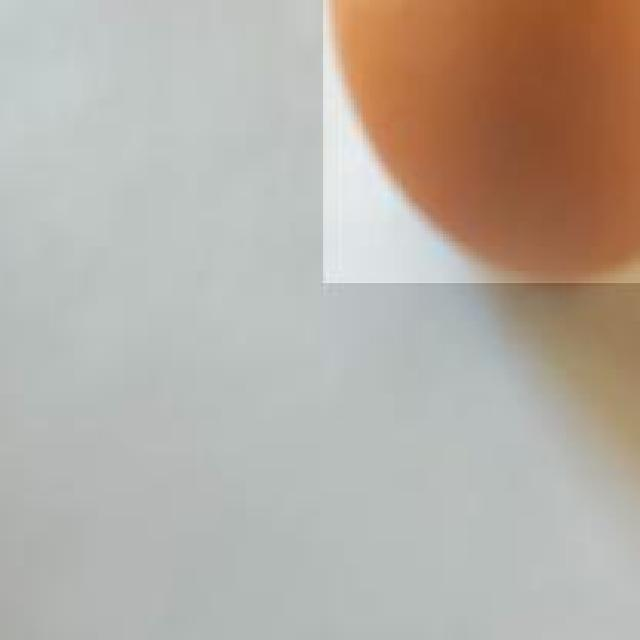egg: (323, 0, 640, 286)
